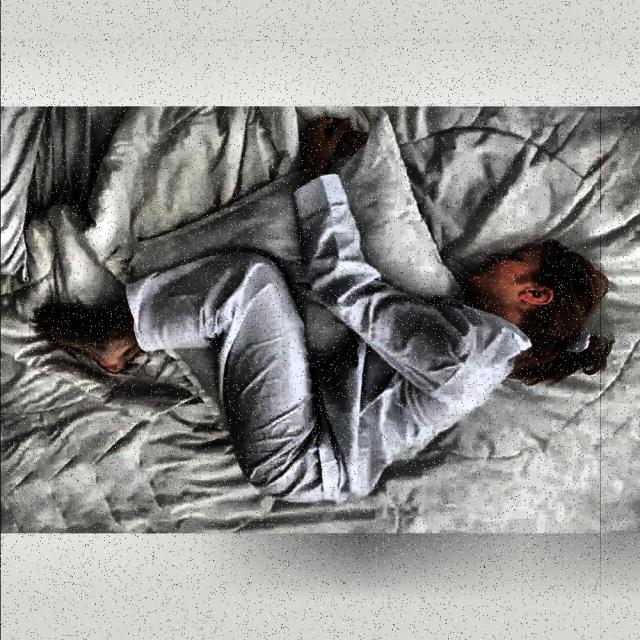Not_Supine: (38, 118, 609, 501)
